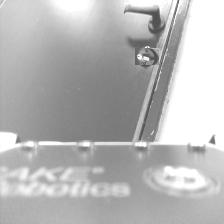Door Handle: (124, 3, 166, 34)
Lock: (136, 45, 158, 67)
